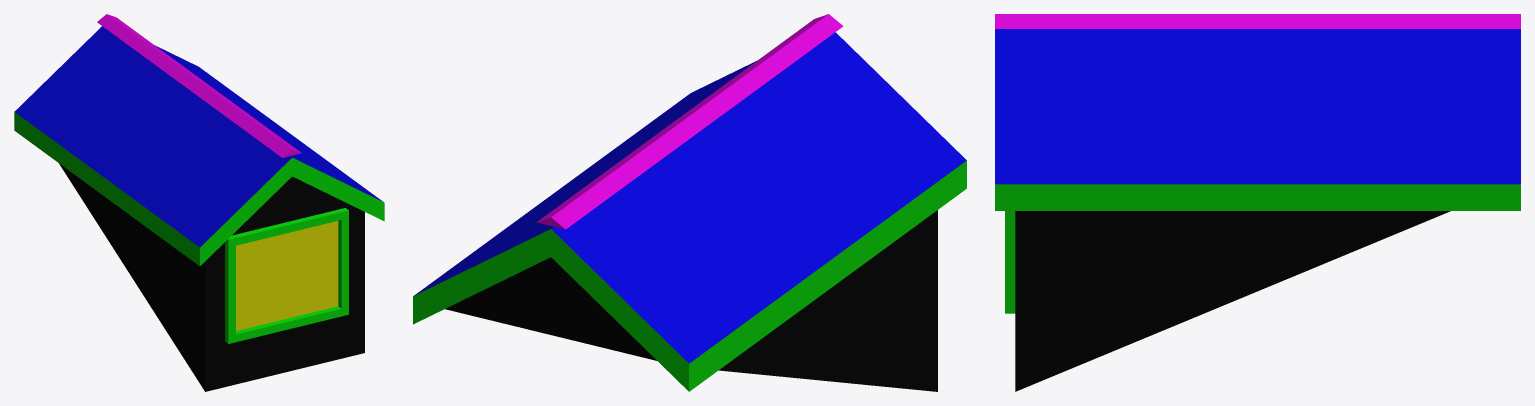
The model's file is roof_dormer.glb.
3 renders of one model, left to right at view 1: azimuth 30°, elevation 25°; view 2: azimuth 150°, elevation 25°; view 3: azimuth 270°, elevation 25°, orthographic. The views are drawn at different scales.
Parts seen in each view (by area): view 1: roof_dormer; view 2: roof_dormer; view 3: roof_dormer.
Part boxes in pixels (x1,y1,x2,y2): roof_dormer: (14, 14, 384, 391); roof_dormer: (413, 14, 966, 391); roof_dormer: (995, 14, 1520, 391).
Bounding box in the file's own units: 1.5 × 1.77 × 2.61.
